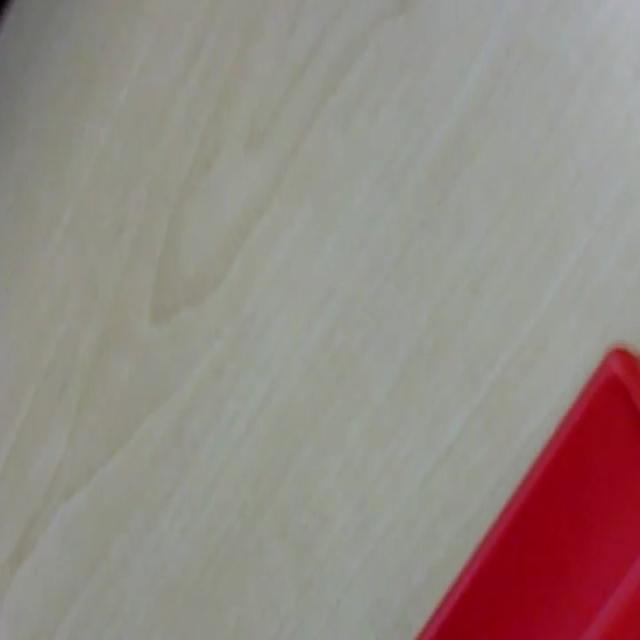red_block: (414, 343, 638, 637)
